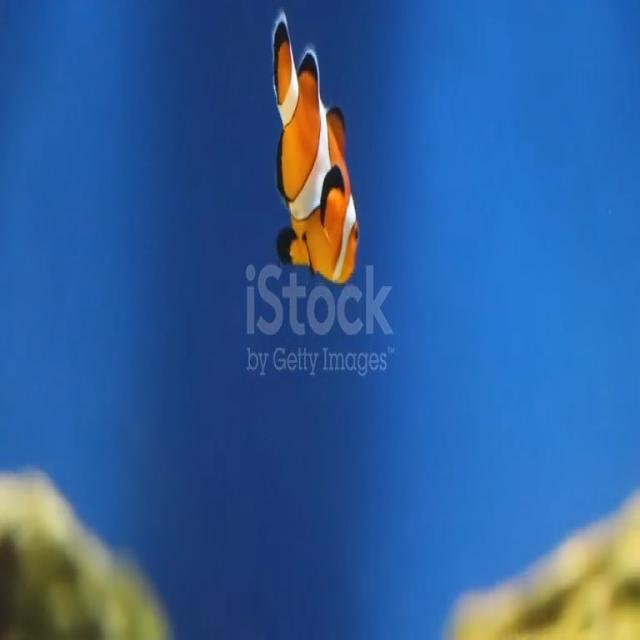fish: (266, 5, 361, 288)
